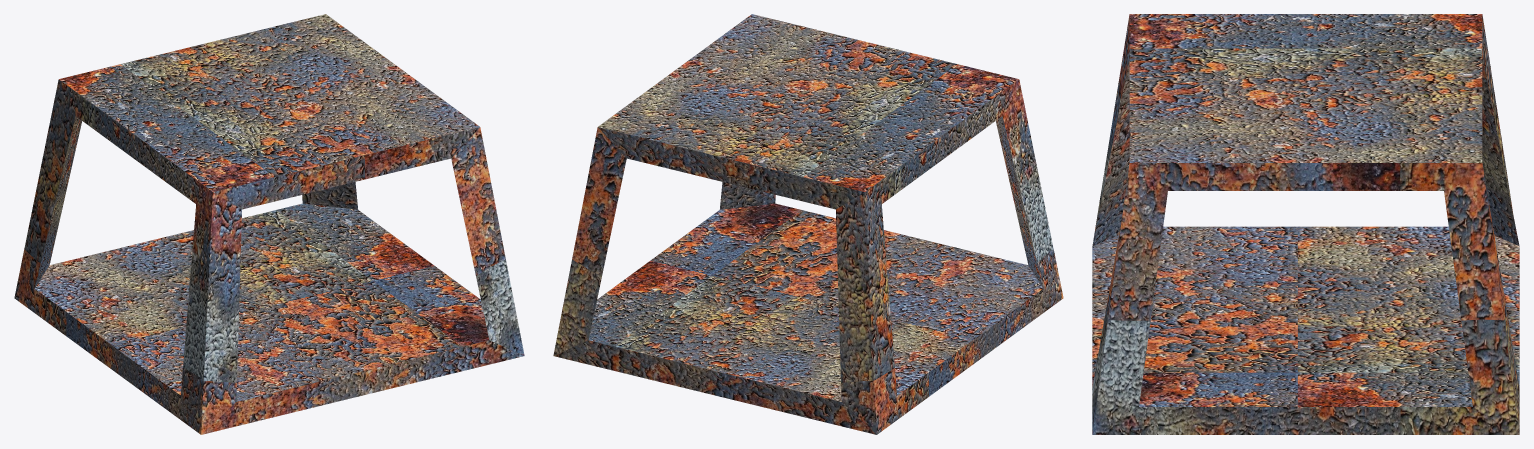
File: Table.fbx
The picture shows the model from 3 angles, left to right: view 1: azimuth 30°, elevation 25°; view 2: azimuth 150°, elevation 25°; view 3: azimuth 270°, elevation 25°; orthographic projection. The views are drawn at different scales.
Parts seen in each view (by area): view 1: Table; view 2: Table; view 3: Table.
Part boxes in pixels (x1,y1,x2,y2): Table: (14, 14, 524, 434); Table: (553, 14, 1063, 434); Table: (1092, 14, 1519, 434).
Bounding box in the file's own units: 71.1 × 47.06 × 71.1.
